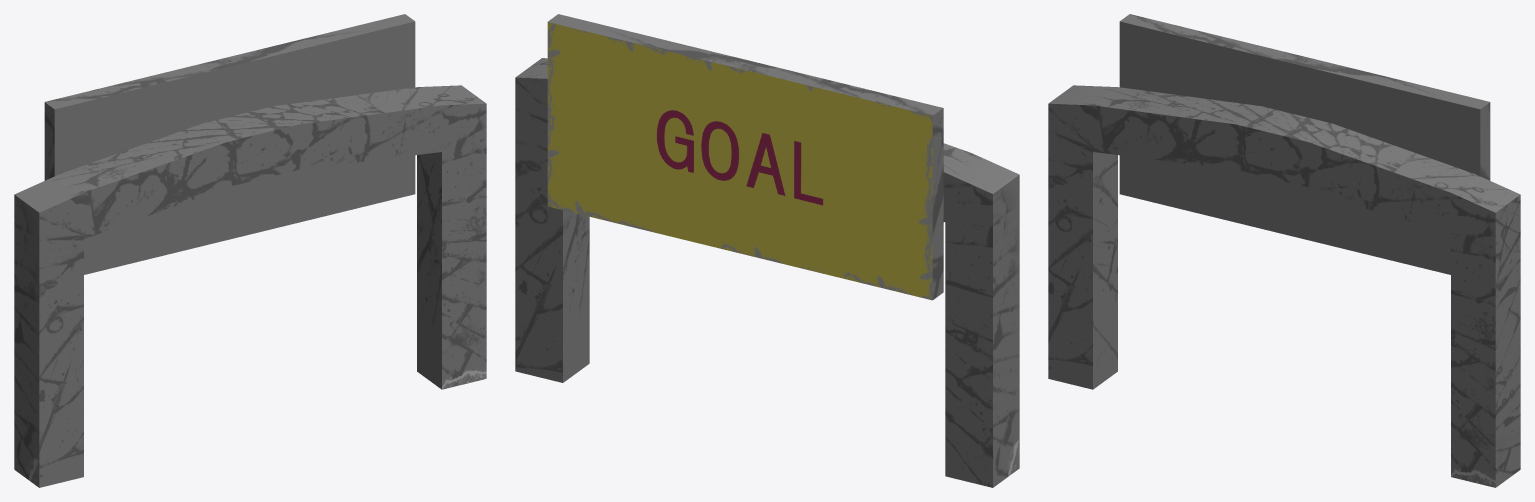
The model's file is goal.fbx.
3 views of the same model, side by side, from view 1: azimuth 30°, elevation 25°; view 2: azimuth 150°, elevation 25°; view 3: azimuth 330°, elevation 25° (orthographic). The views are drawn at different scales.
Visible parts, largest first — view 1: pCube3; view 2: pCube3; view 3: pCube3.
Part boxes in pixels (<box>): pCube3: <box>14,14,486,487</box>; pCube3: <box>515,14,1019,487</box>; pCube3: <box>1048,14,1520,487</box>.
Bounding box in the file's own units: 48.14 × 35.73 × 7.11.
Materials: 1 (1 with a texture image).
